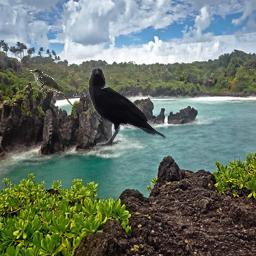Crow: (87, 67, 166, 146)
Cuckoo: (29, 69, 74, 108)
